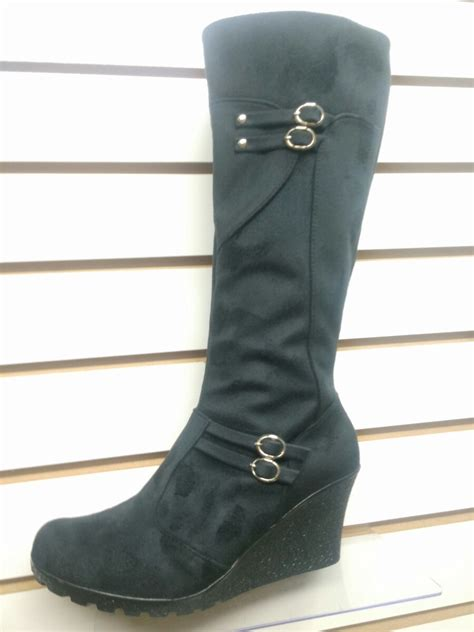gamuza: (32, 10, 390, 599)
